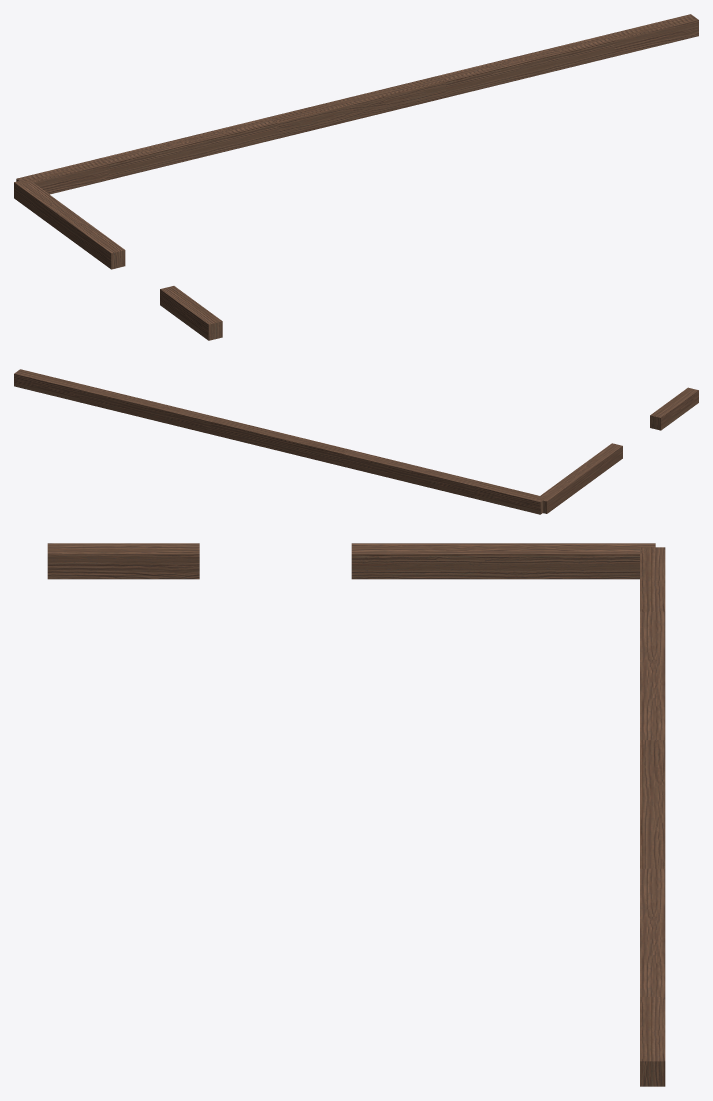
Rendered from FrontDoor_UpperDeco.fbx.
The picture shows the model from 3 angles, top to bottom: view 1: azimuth 30°, elevation 25°; view 2: azimuth 150°, elevation 25°; view 3: azimuth 270°, elevation 25°; orthographic projection. The views are drawn at different scales.
Visible parts, largest first — view 1: FrontDoor_UpperDeco; view 2: FrontDoor_UpperDeco; view 3: FrontDoor_UpperDeco.
Part boxes in pixels (left/top/right/bottom): FrontDoor_UpperDeco: left=14, top=14, right=698, bottom=340; FrontDoor_UpperDeco: left=14, top=369, right=698, bottom=514; FrontDoor_UpperDeco: left=47, top=543, right=665, bottom=1086.
Size of the model in its own units: 2016 by 45.63 by 1016.
